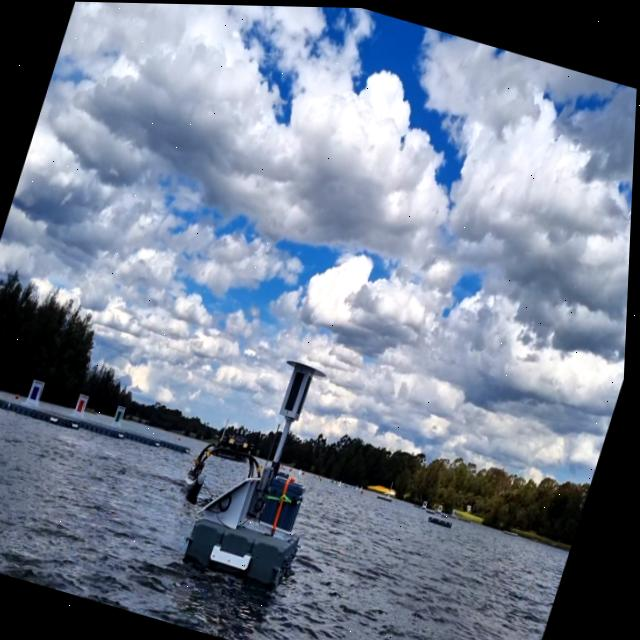led: (285, 365, 310, 415)
